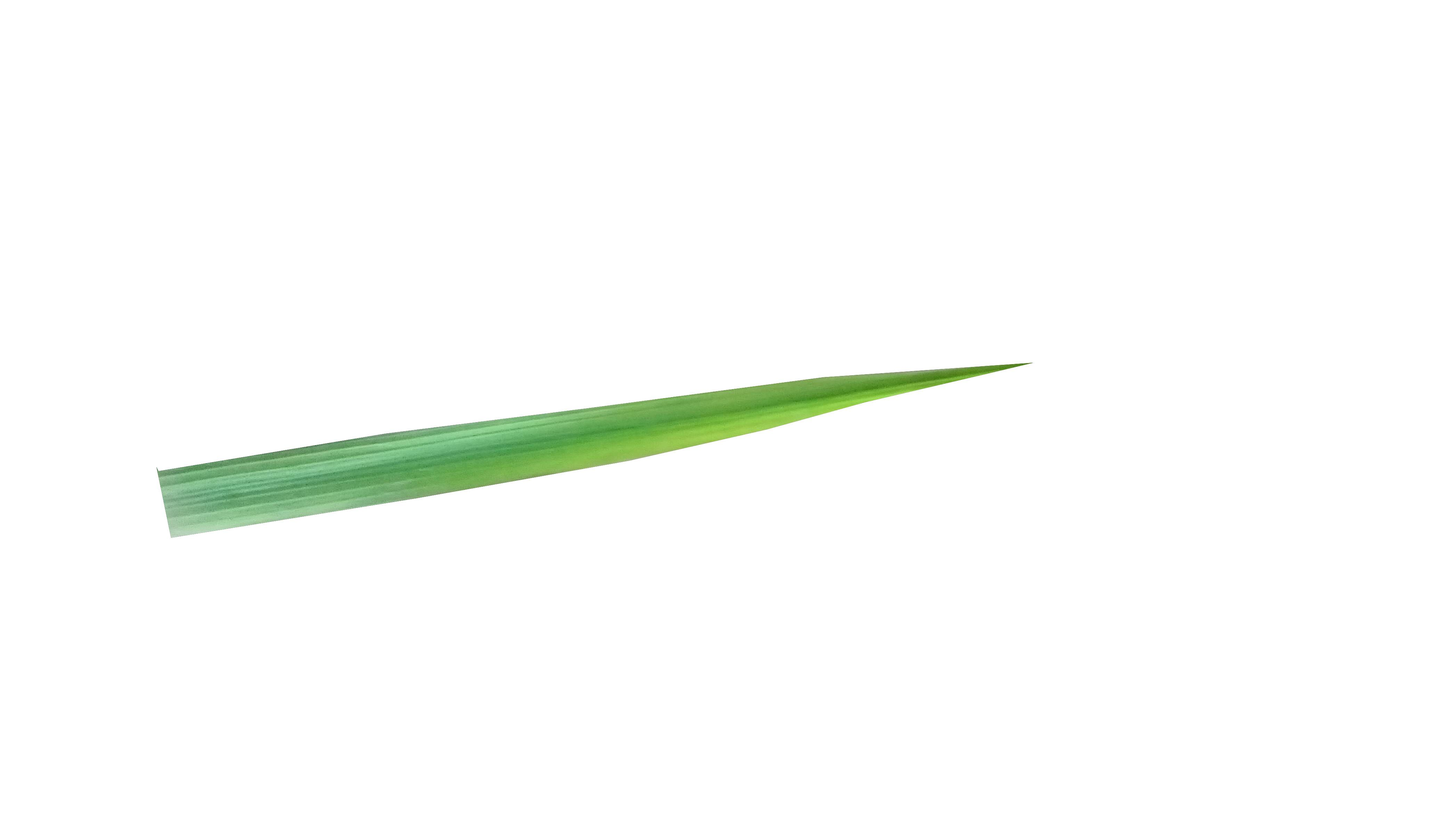Tungro: (461, 391, 899, 486)
